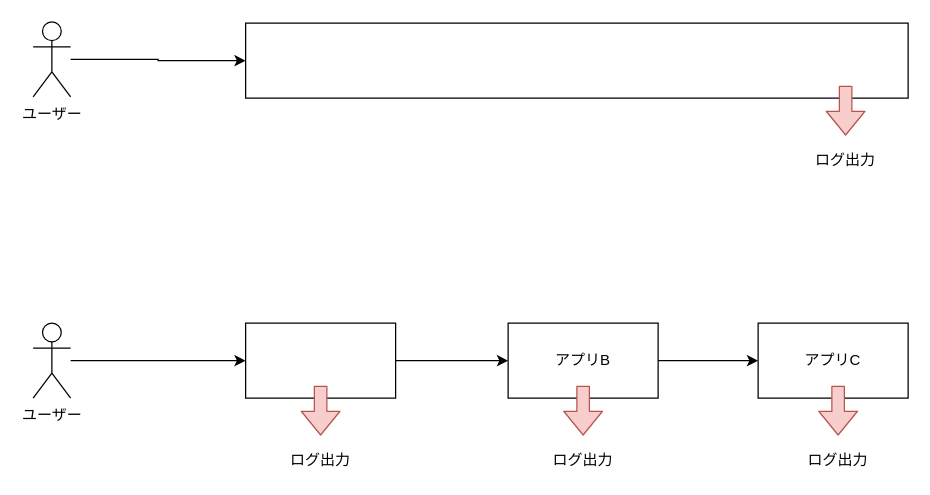
Image size: 930x495. Some labels were removed from this diagram. Here are the shapes that lost their labels. From the top down, the centre of each, then its label:
At point 576,60: "アプリ".
At point 320,360: "アプリA".
